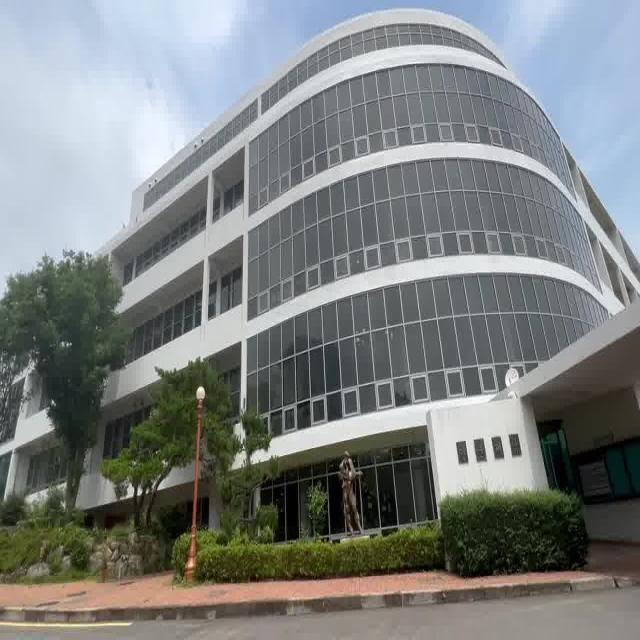building: (237, 39, 538, 475)
